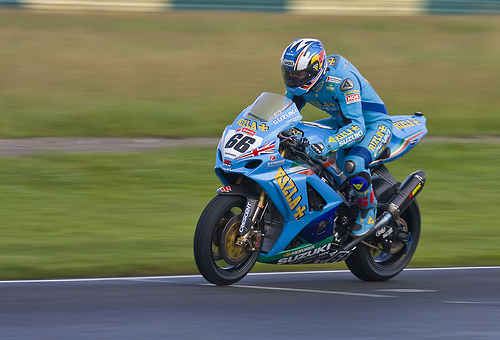helmet: (280, 34, 330, 89)
